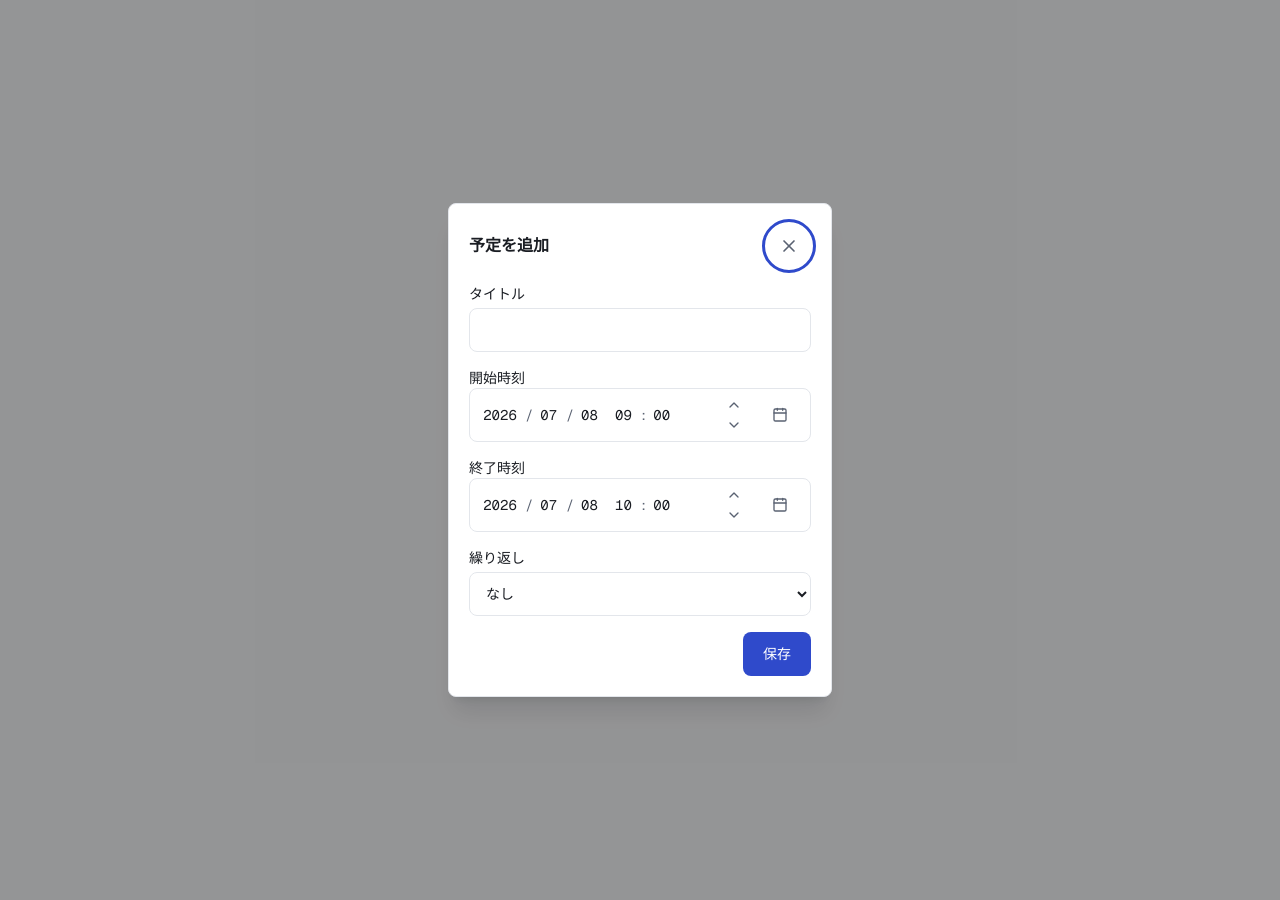
Test: 繰り返しUIのバリデーション(S12) › S12: 毎週で曜日をすべて解除して保存すると、アクションを呼ばずフォーム内エラーになる
Type "朝会" into the field labelled "タイトル".
click(640, 330); type("朝会")  # box [469,308,811,352]
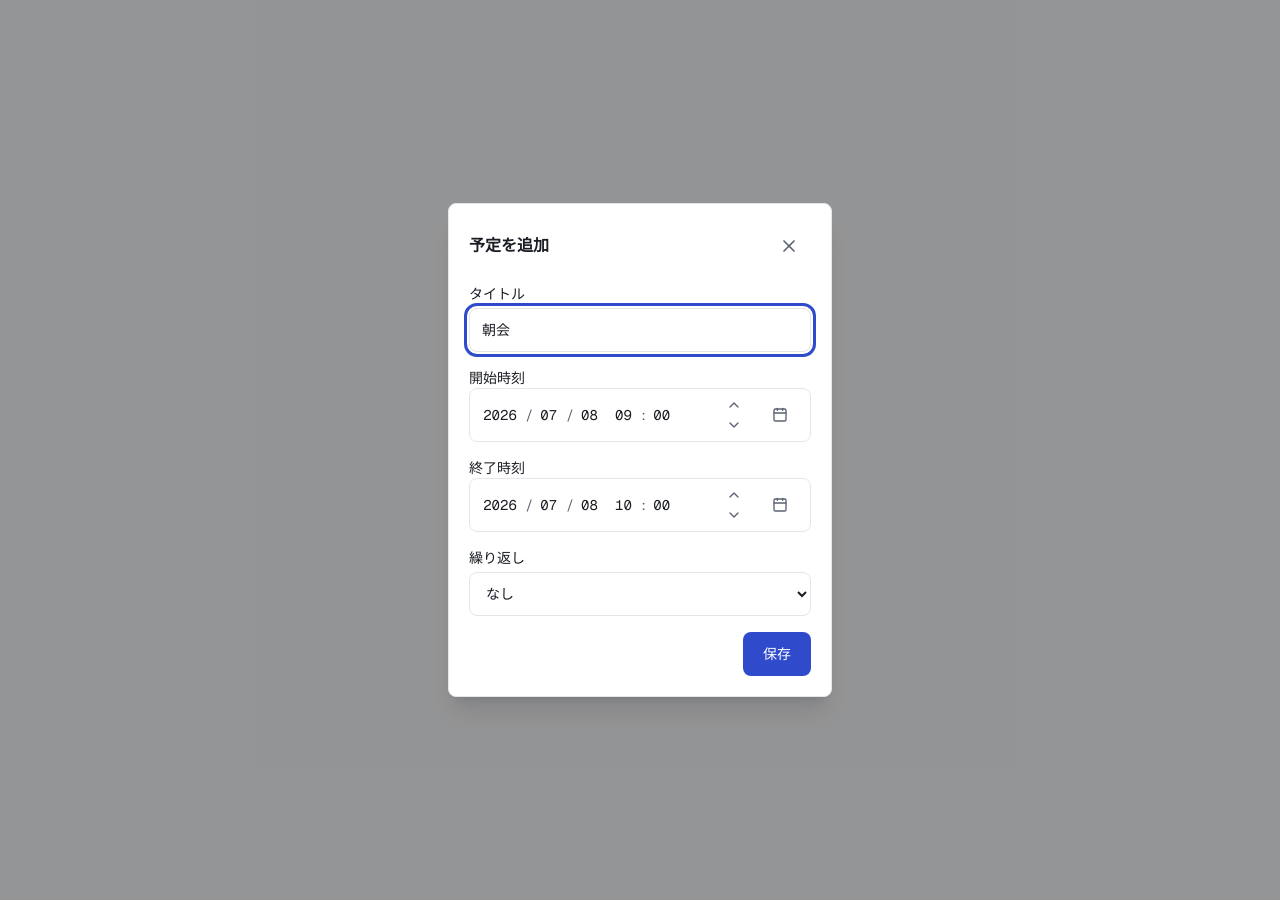
Select "毎週" in the dropdown labelled "繰り返し" at coordinates (640, 594), box [469,572,811,616]
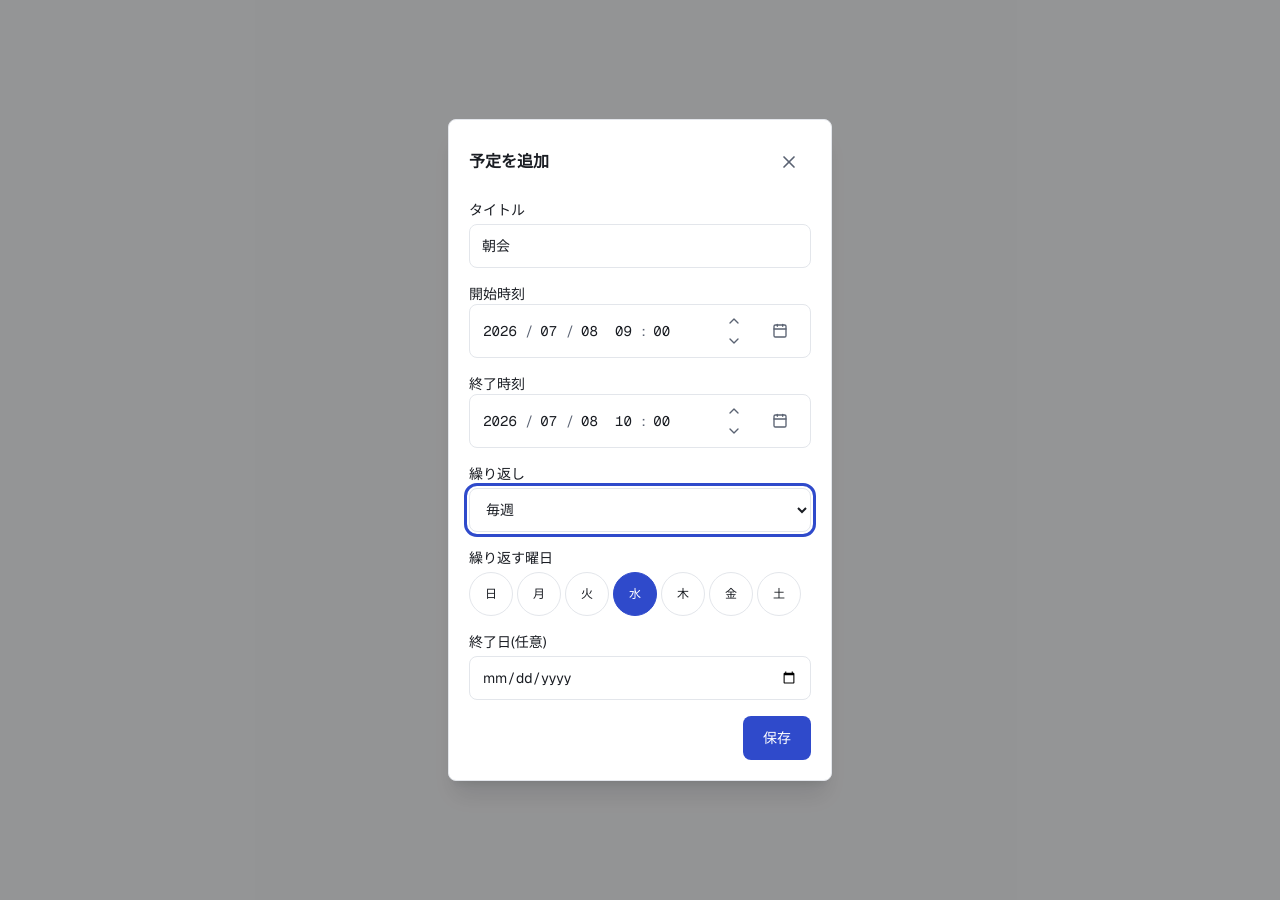
Click the button named "水曜日".
click(635, 594)  # box [613,572,657,616]
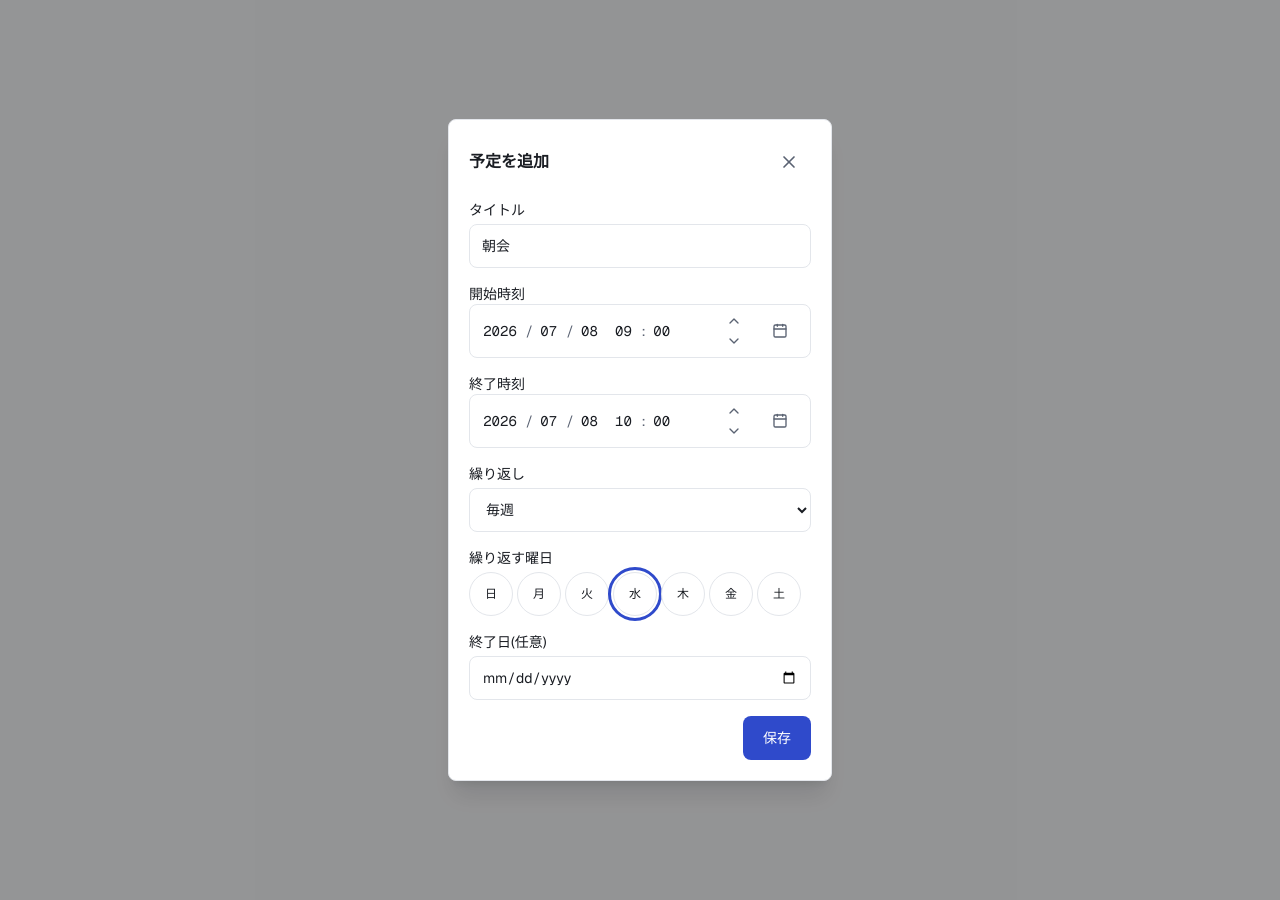
Click the button "保存".
click(777, 738)  # box [743,716,811,760]
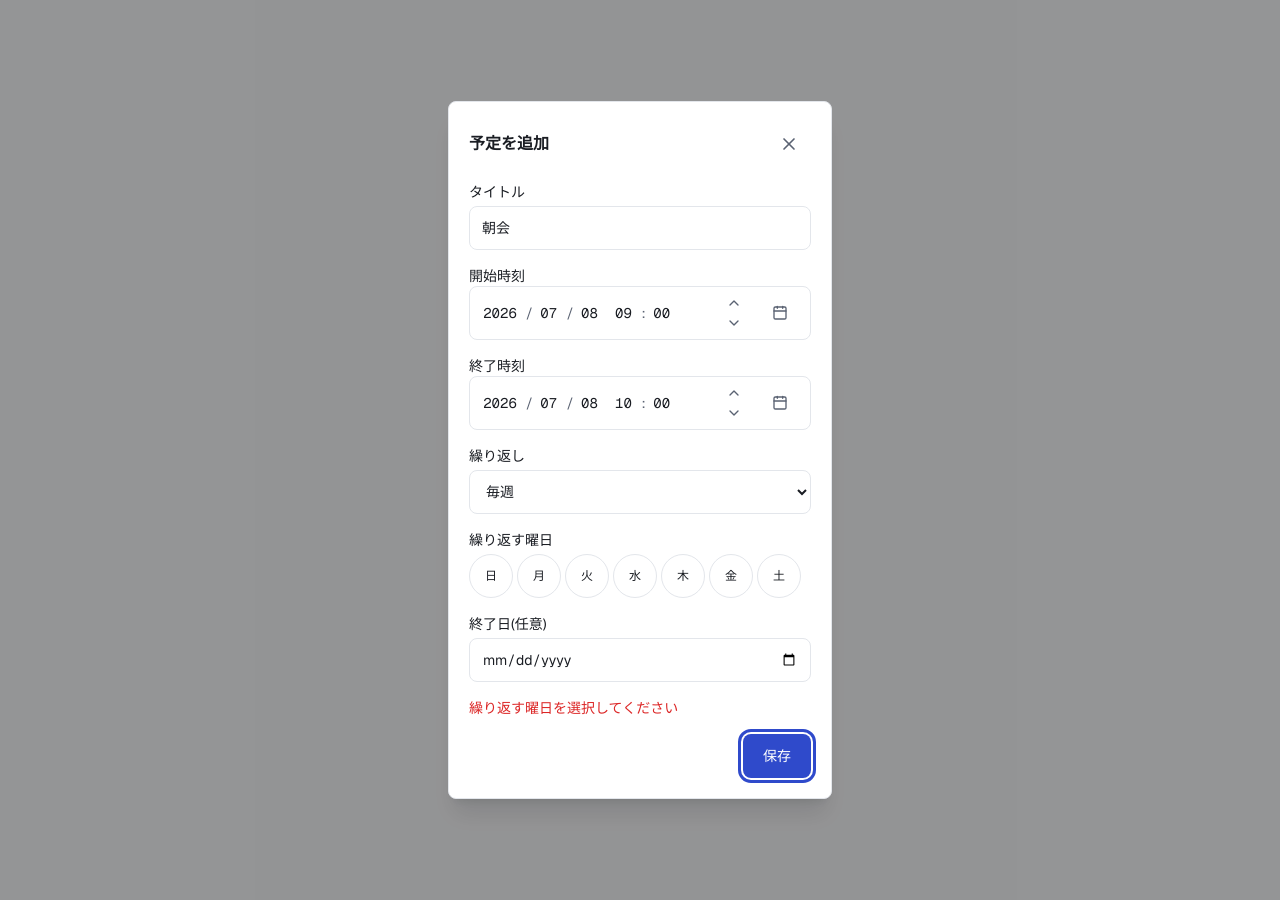
expect the text "繰り返す曜日を選択してください" is shown: met, box [469,699,678,717]
